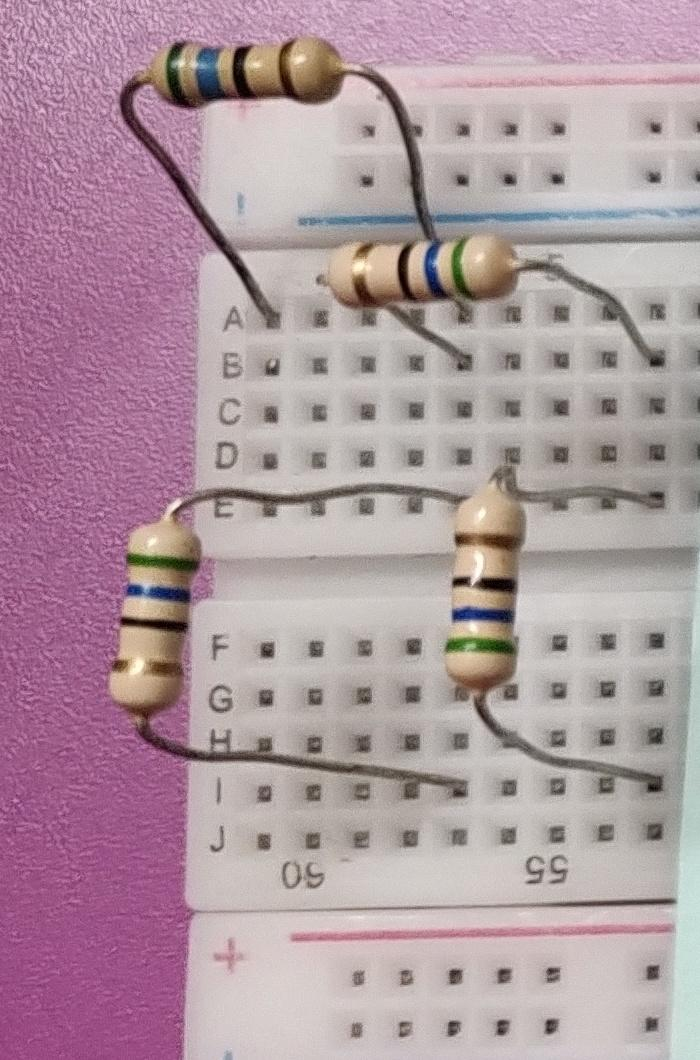resistor: (99, 497, 198, 766), (435, 483, 535, 711), (141, 31, 359, 122), (323, 233, 539, 319)
